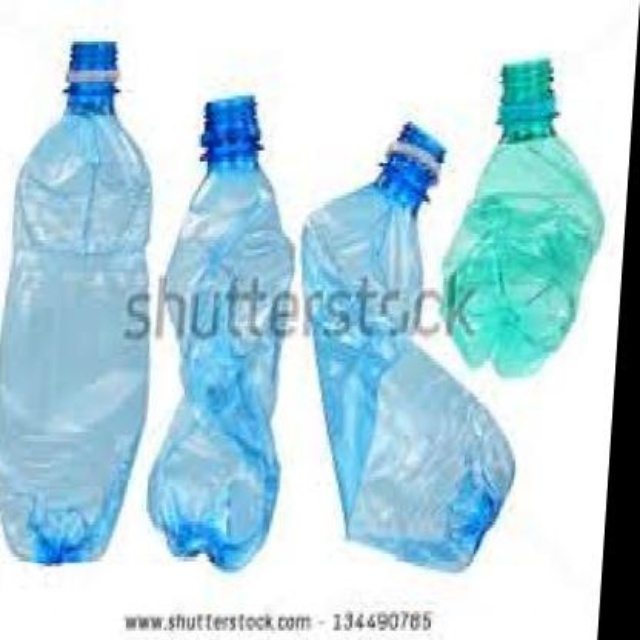trash: (302, 123, 512, 566), (0, 42, 149, 562), (148, 95, 292, 566), (443, 58, 602, 375)
